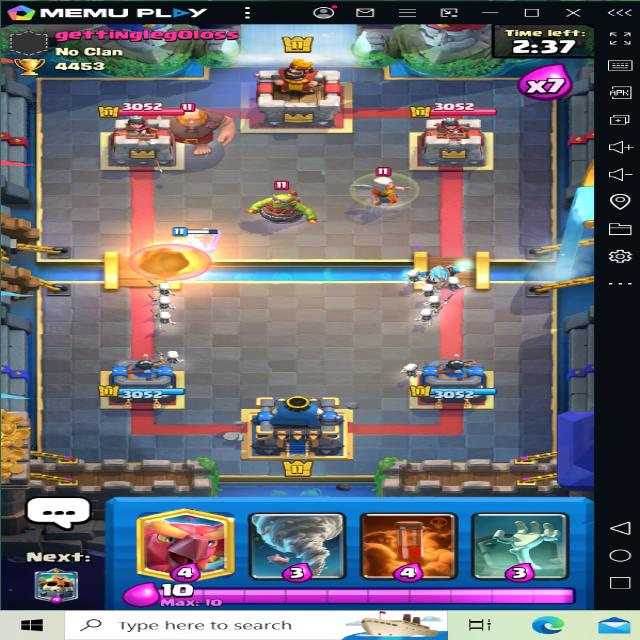Battlehealer: (339, 165, 421, 218)
Giant: (153, 100, 241, 154)
Goblindemolisher: (247, 176, 319, 227)
